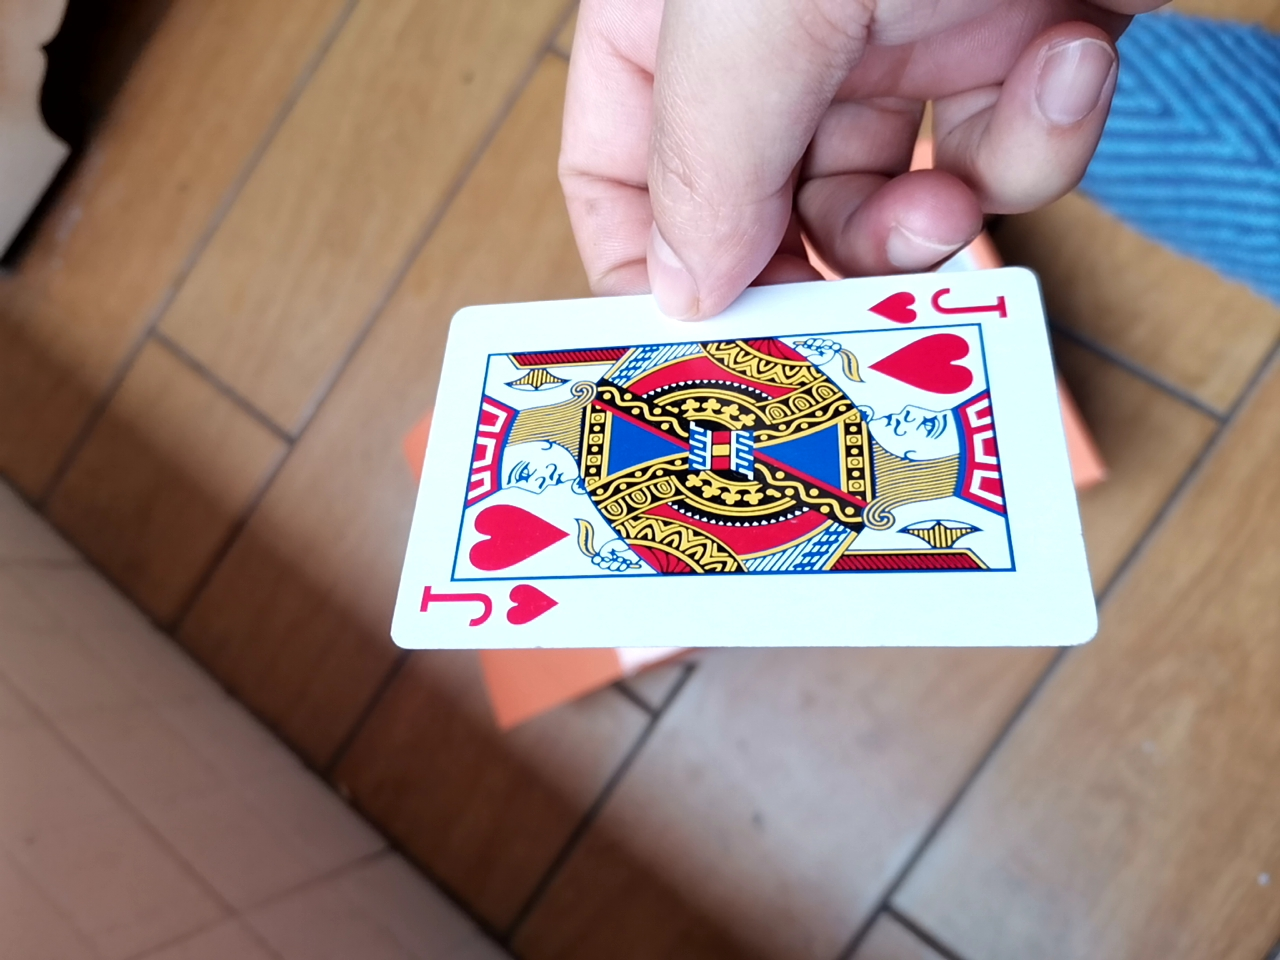hx j: (362, 244, 1110, 680)
